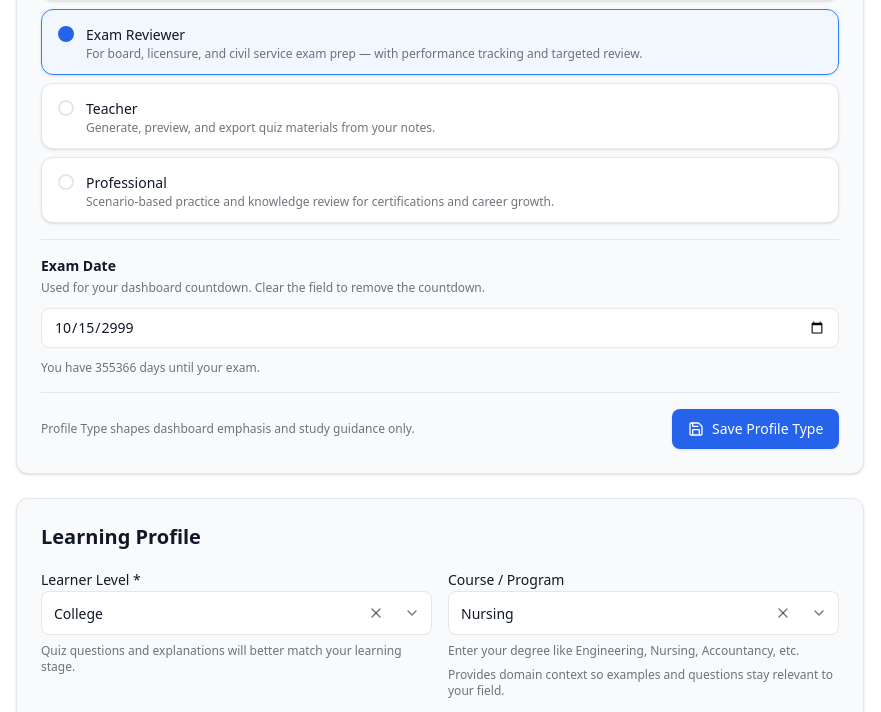
Test: Profile page › clears Exam Reviewer exam date when the saved input is empty
The width and height of the screenshot is (881, 712).
(page scrolled)
Clear the date field named "Exam Date" at (440, 328), box [41,308,839,348]
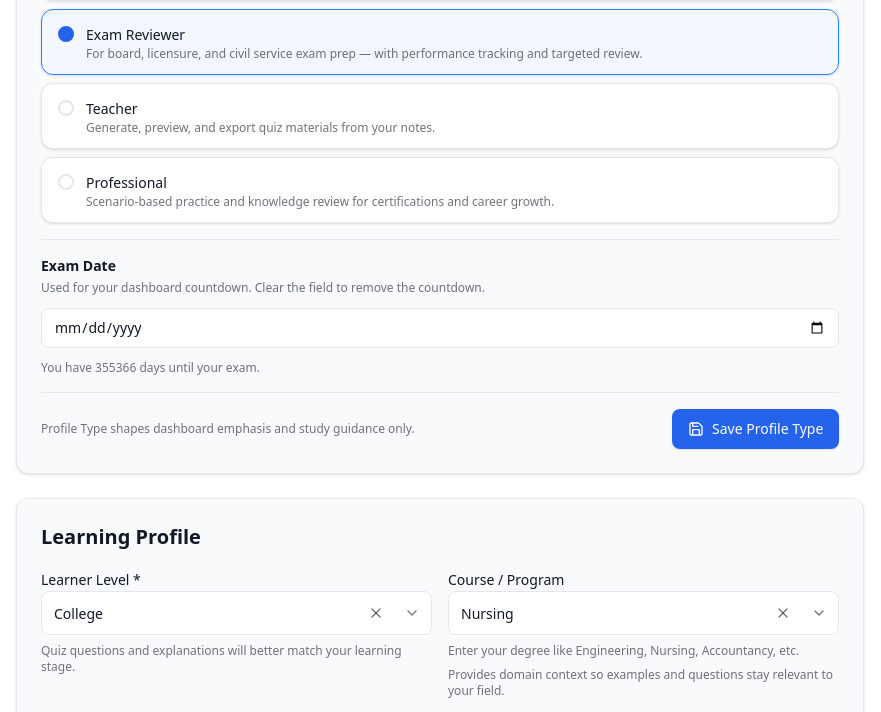
Click the button "Save Profile Type".
click(755, 429)  # box [672,409,839,449]
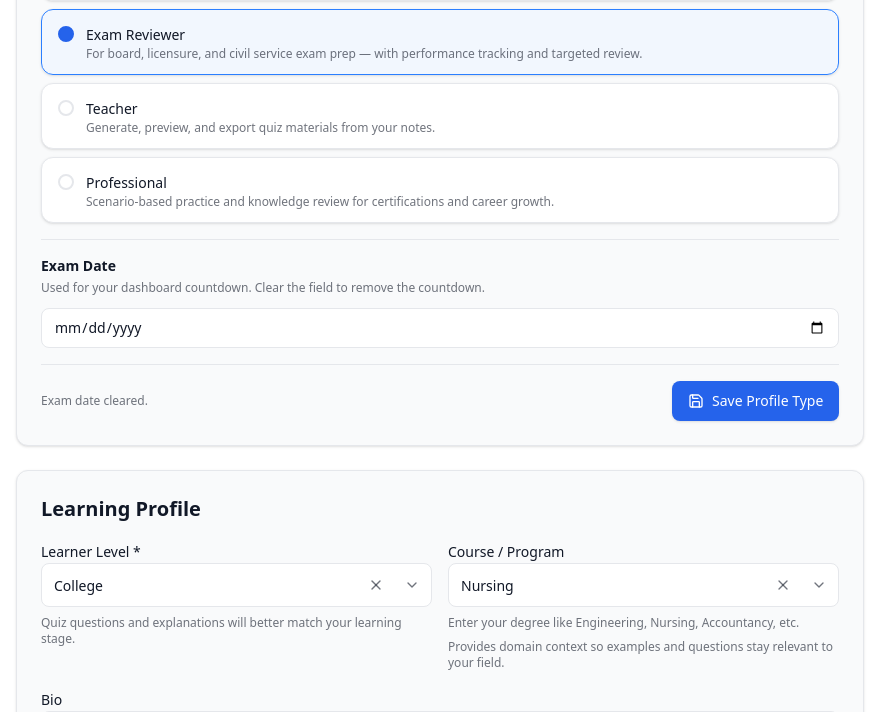
Result: the text "Exam date cleared." is shown at [41,393,148,409]
Result: the text "days until your exam." is gone
